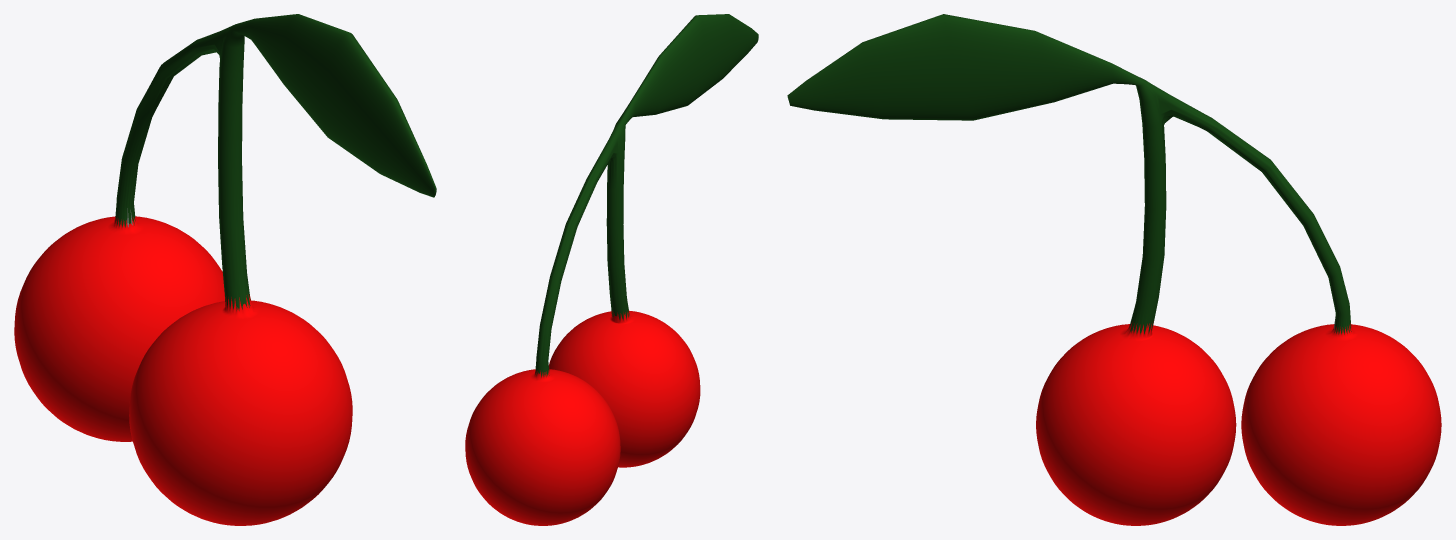
File: cherry.obj
3 renders of one model, left to right at view 1: azimuth 30°, elevation 25°; view 2: azimuth 150°, elevation 25°; view 3: azimuth 270°, elevation 25°, orthographic. The views are drawn at different scales.
Visible parts, largest first — view 1: cherry:pCylinder3; view 2: cherry:pCylinder3; view 3: cherry:pCylinder3.
Boxes of the visible parts, x1,y1,x2,y2 form: cherry:pCylinder3: (14, 14, 436, 525); cherry:pCylinder3: (465, 14, 758, 525); cherry:pCylinder3: (787, 14, 1441, 525).
Size of the model in its own units: 0.1837 by 0.5087 by 0.6.
